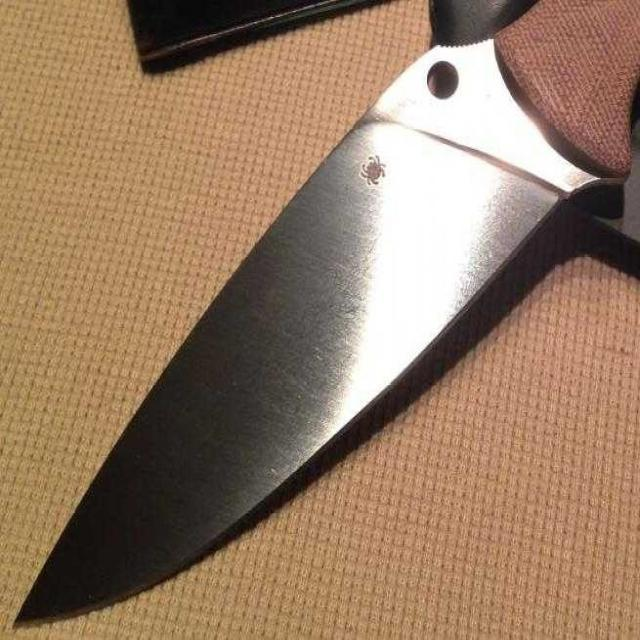knife: (7, 0, 640, 637)
